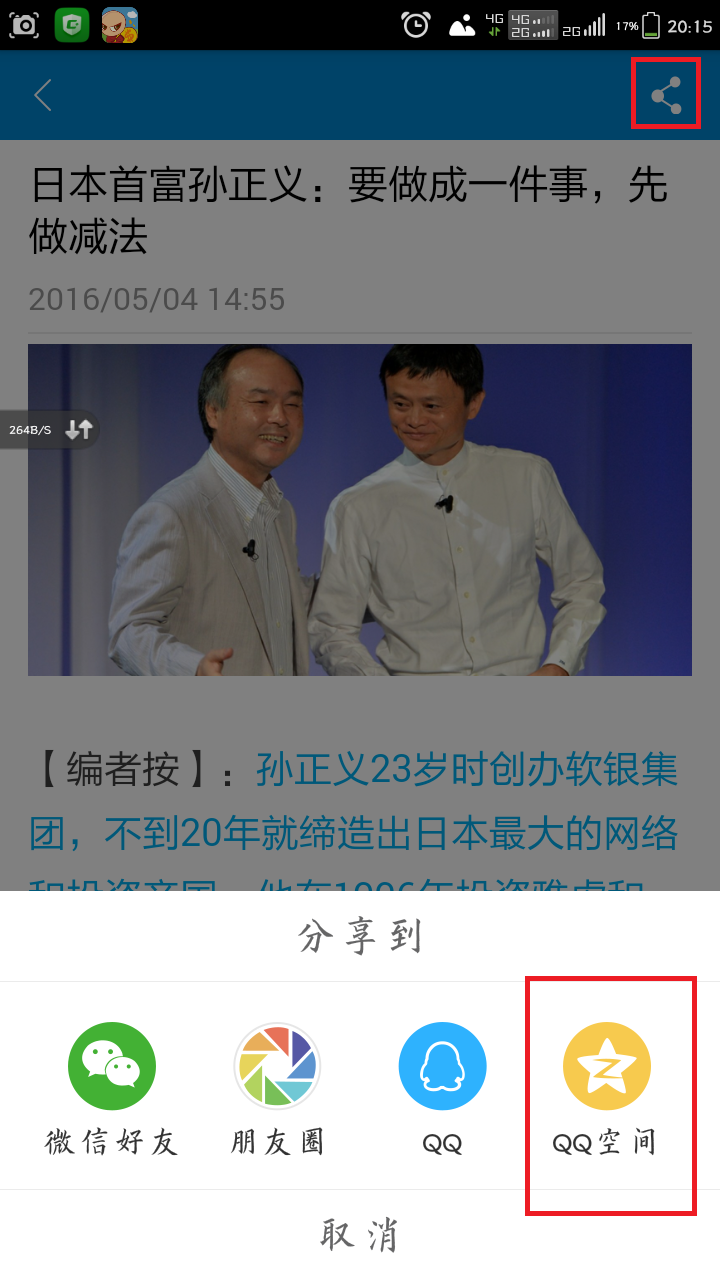imgview: (547, 1008, 663, 1122)
